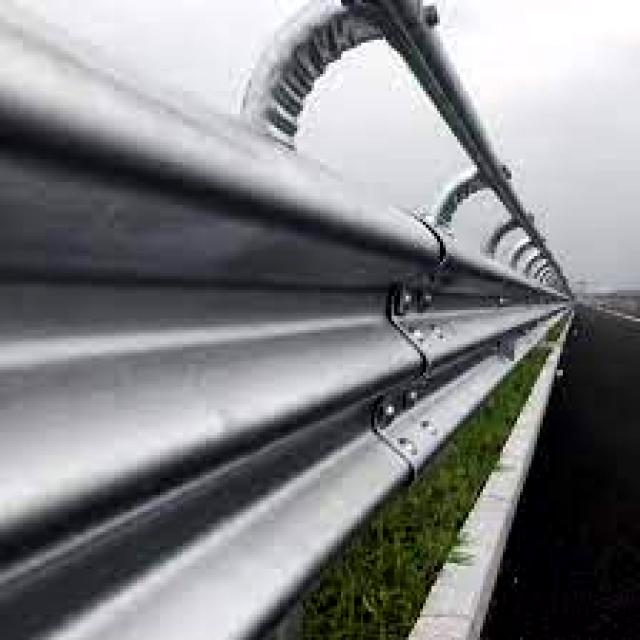Guard rail: (1, 0, 566, 639)
